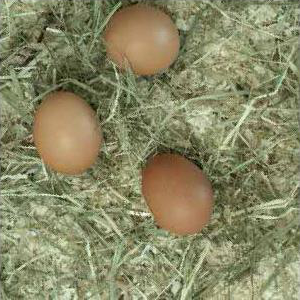egg: (142, 154, 214, 235), (33, 91, 102, 174), (101, 5, 180, 74)
